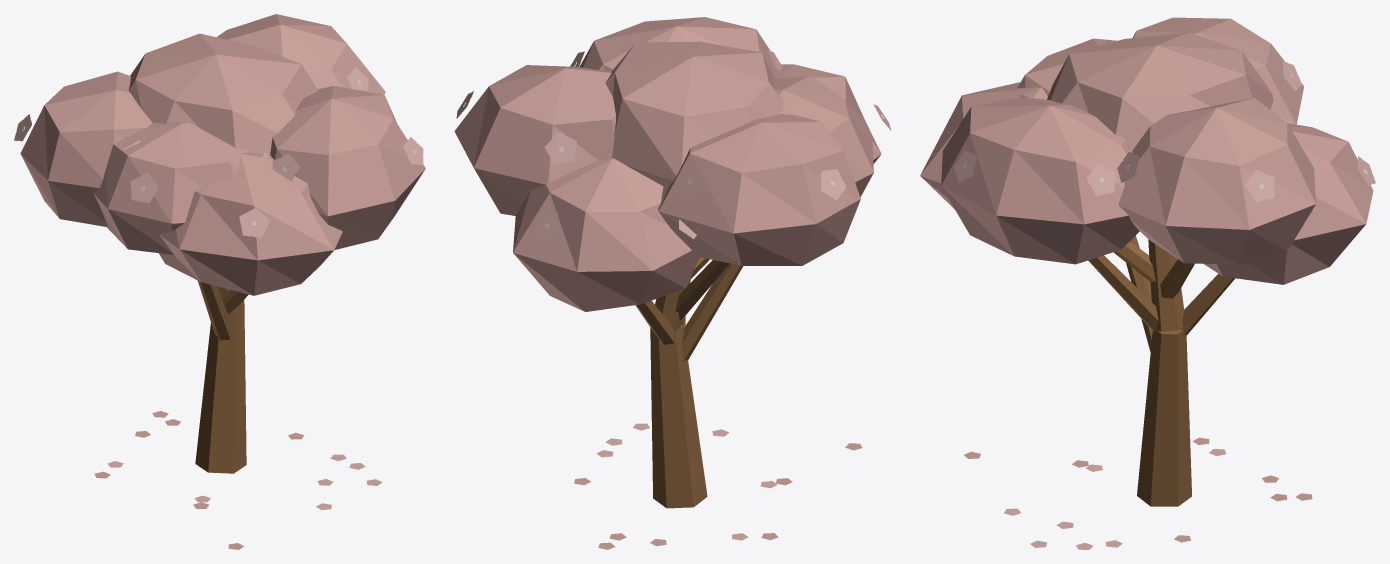
The model's file is komachi-cherry.glb.
3 views of the same model, side by side, from view 1: azimuth 30°, elevation 25°; view 2: azimuth 150°, elevation 25°; view 3: azimuth 270°, elevation 25° (orthographic). The views are drawn at different scales.
Parts seen in each view (by area): view 1: Komachi_cherry; view 2: Komachi_cherry; view 3: Komachi_cherry.
Part boxes in pixels (left/top/right/bottom): Komachi_cherry: left=14, top=14, right=425, bottom=549; Komachi_cherry: left=454, top=17, right=891, bottom=549; Komachi_cherry: left=920, top=17, right=1375, bottom=549.
Size of the model in its own units: 0.8355 by 0.9453 by 0.8746.
